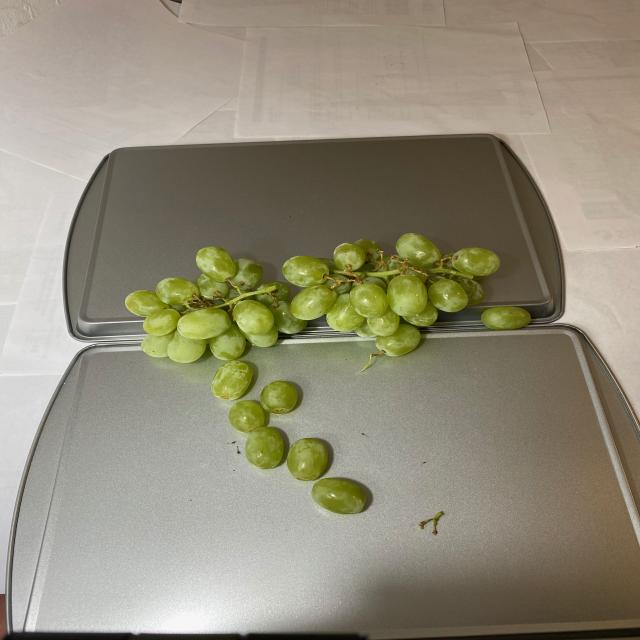grapes: (124, 230, 535, 513)
